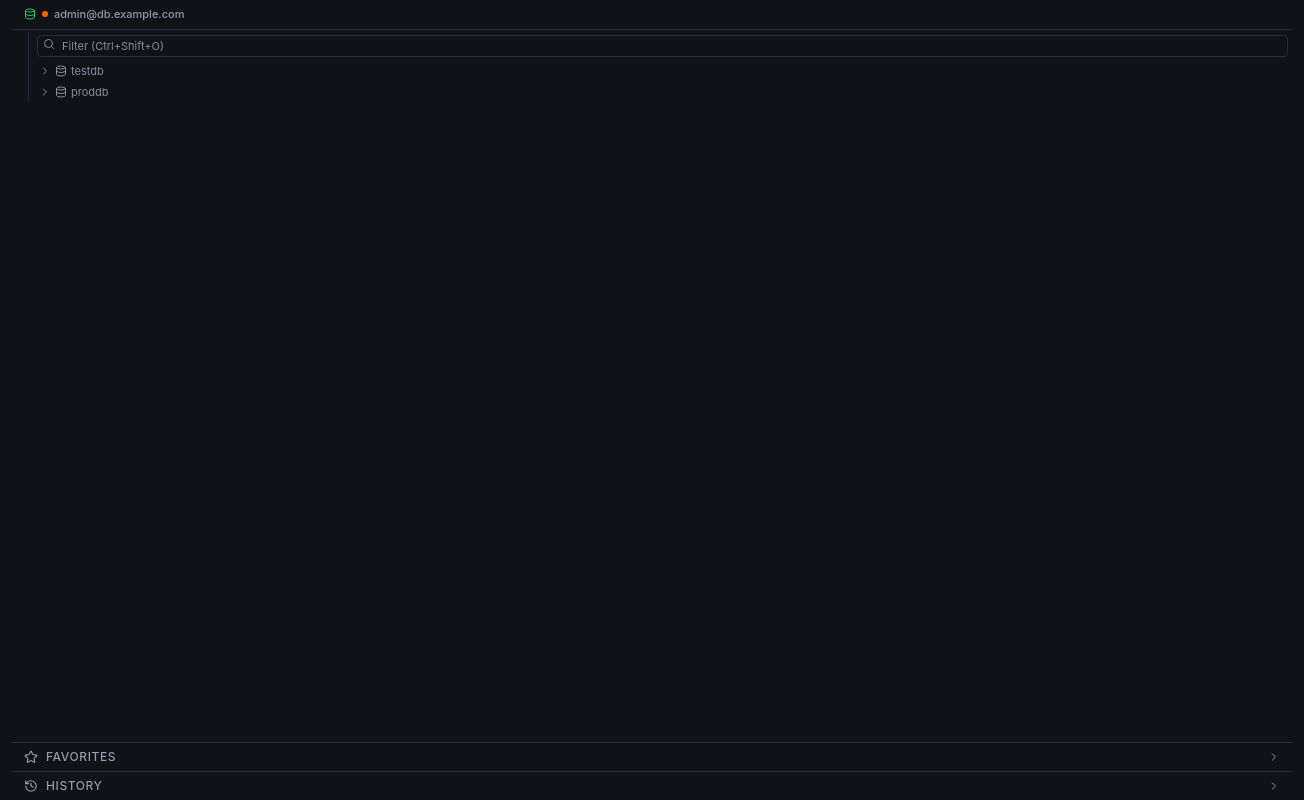
Test: Sidebar (browser) › with active connection › expands database to show schema folders on click
The width and height of the screenshot is (1304, 800).
Expected: the text "testdb" is shown, [71,63,104,80]
Click the list item "testdb" at [87, 71], box [33,61,1292,82]
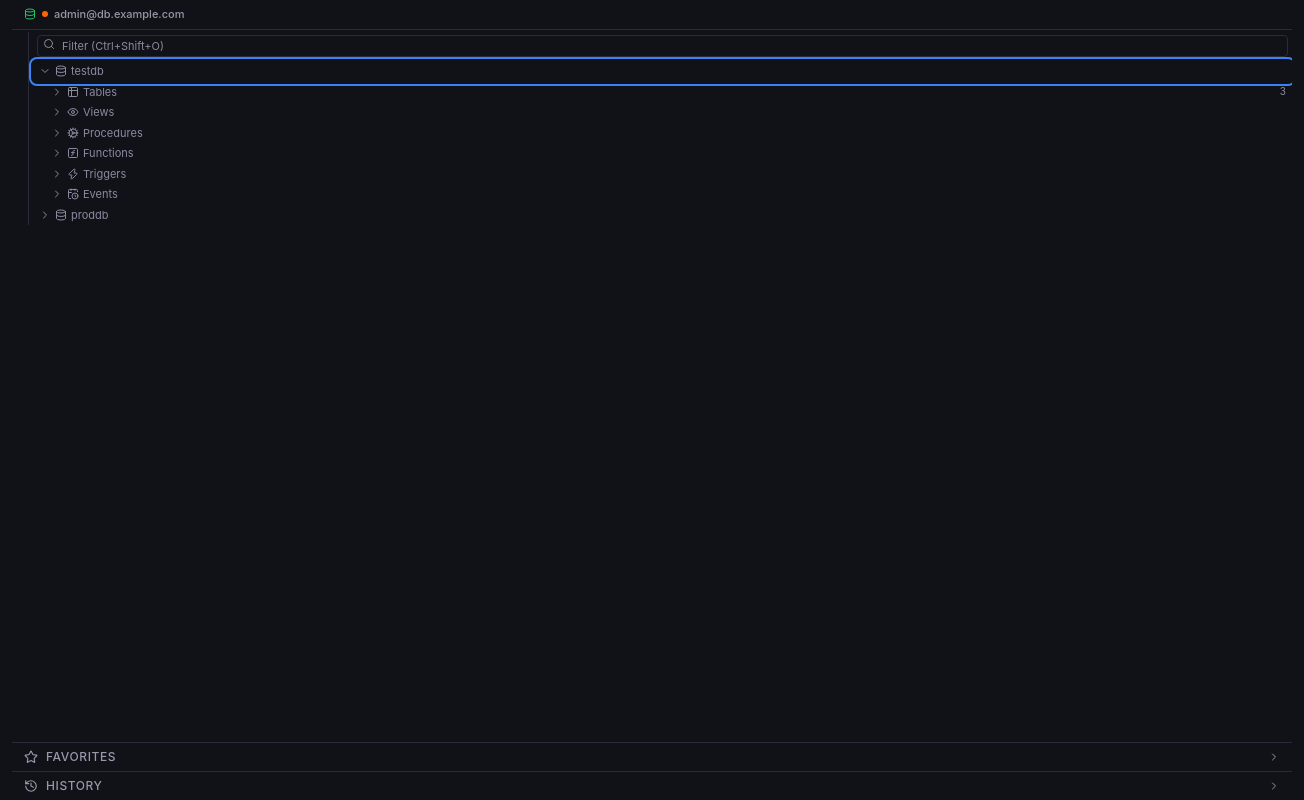
Now the text "Tables" is shown, box [83,84,117,100]
Now the text "Views" is shown, box [83,104,114,120]
Now the text "Procedures" is shown, box [83,124,143,141]
